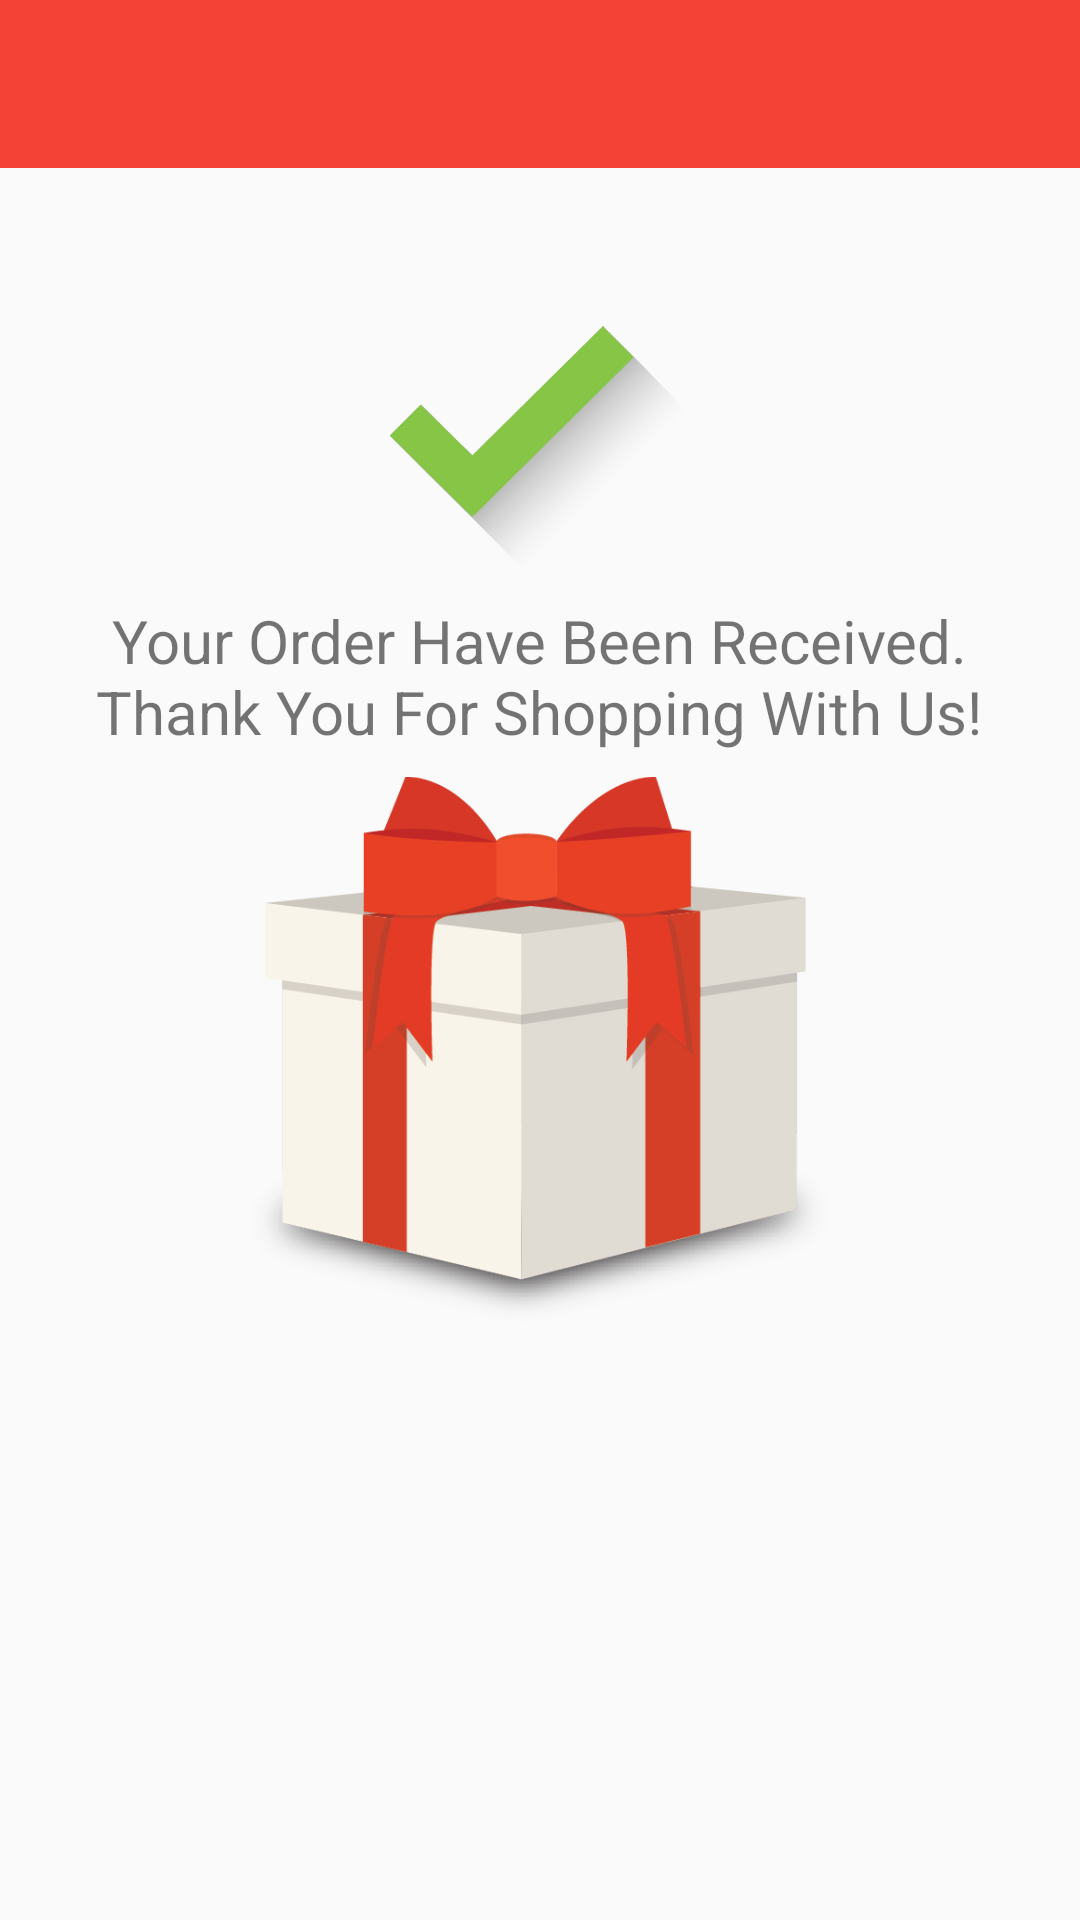

Screen size 1080px x 1920px. Icon name, then its box in pixels as BBox(x1, y1, x2, y2):
check: BBox(390, 326, 657, 541)
